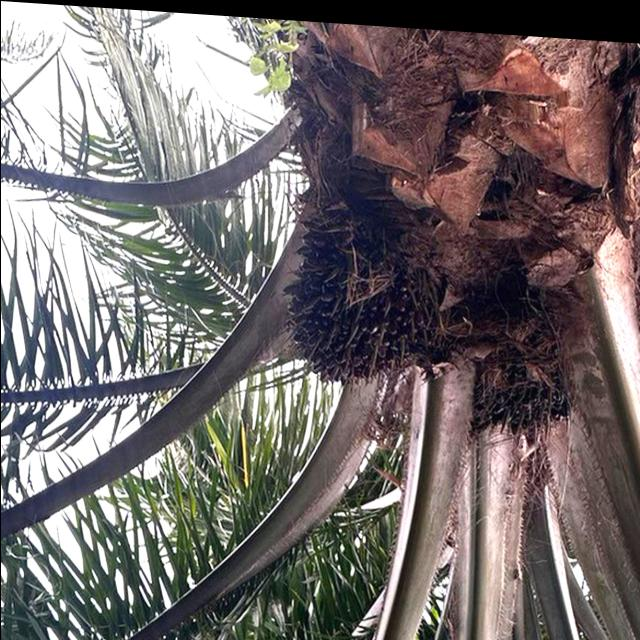ripe: (274, 206, 438, 392), (465, 340, 585, 439)
